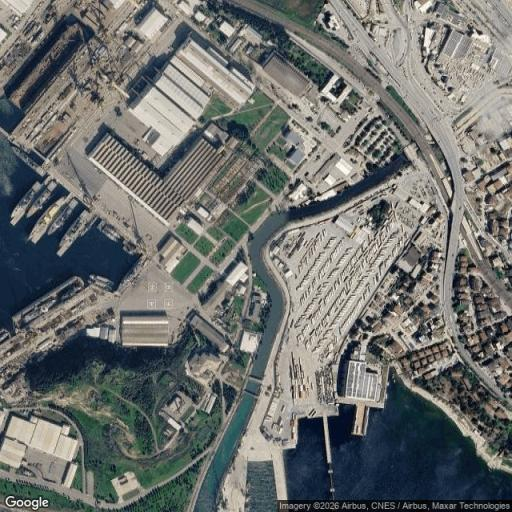ship: (27, 197, 63, 240), (58, 209, 91, 248), (26, 179, 57, 220), (11, 181, 42, 217), (11, 148, 47, 178), (48, 199, 77, 235), (79, 215, 99, 238), (87, 279, 113, 292), (89, 274, 115, 286), (123, 239, 139, 254), (103, 228, 117, 242), (106, 225, 121, 238), (123, 246, 134, 256), (386, 380, 390, 388), (385, 393, 389, 401), (392, 373, 395, 379), (394, 379, 396, 383)
